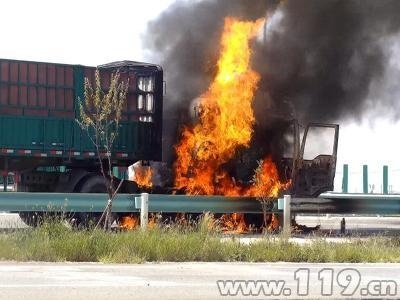fire: (173, 12, 276, 201), (129, 160, 154, 188)
